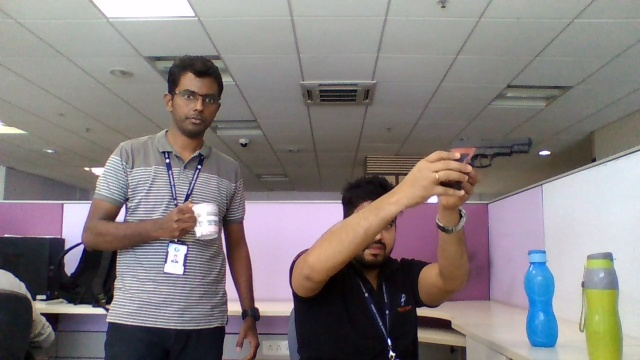gun: (461, 137, 533, 164)
